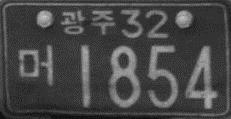1: (77, 43, 93, 109)
2: (144, 8, 169, 39)
3: (120, 8, 143, 39)
4: (184, 46, 218, 110)
5: (148, 44, 180, 109)
8: (107, 44, 140, 109)
광주_O: (60, 9, 115, 35)
머: (17, 43, 55, 86)
